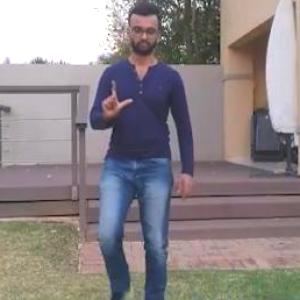land_hand: (94, 71, 135, 124)
